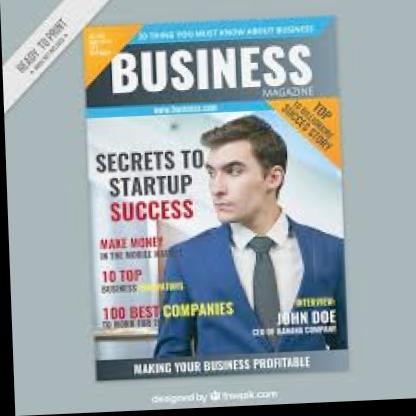Paper: (54, 0, 374, 392)
